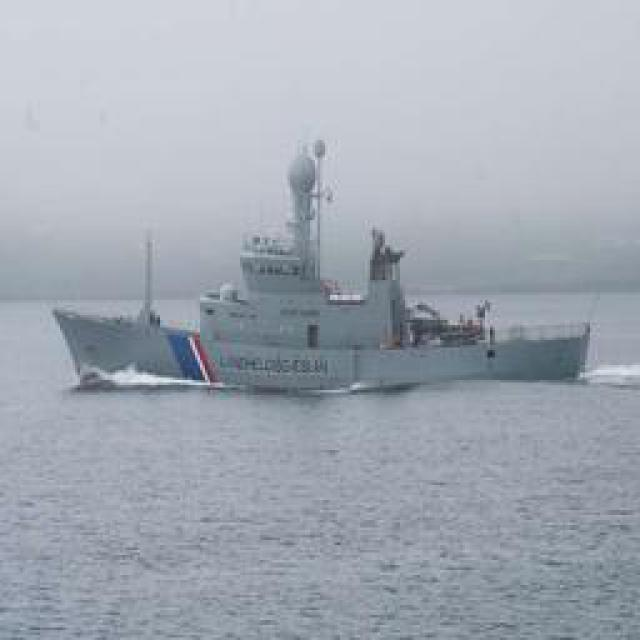Ship: (56, 137, 603, 396)
